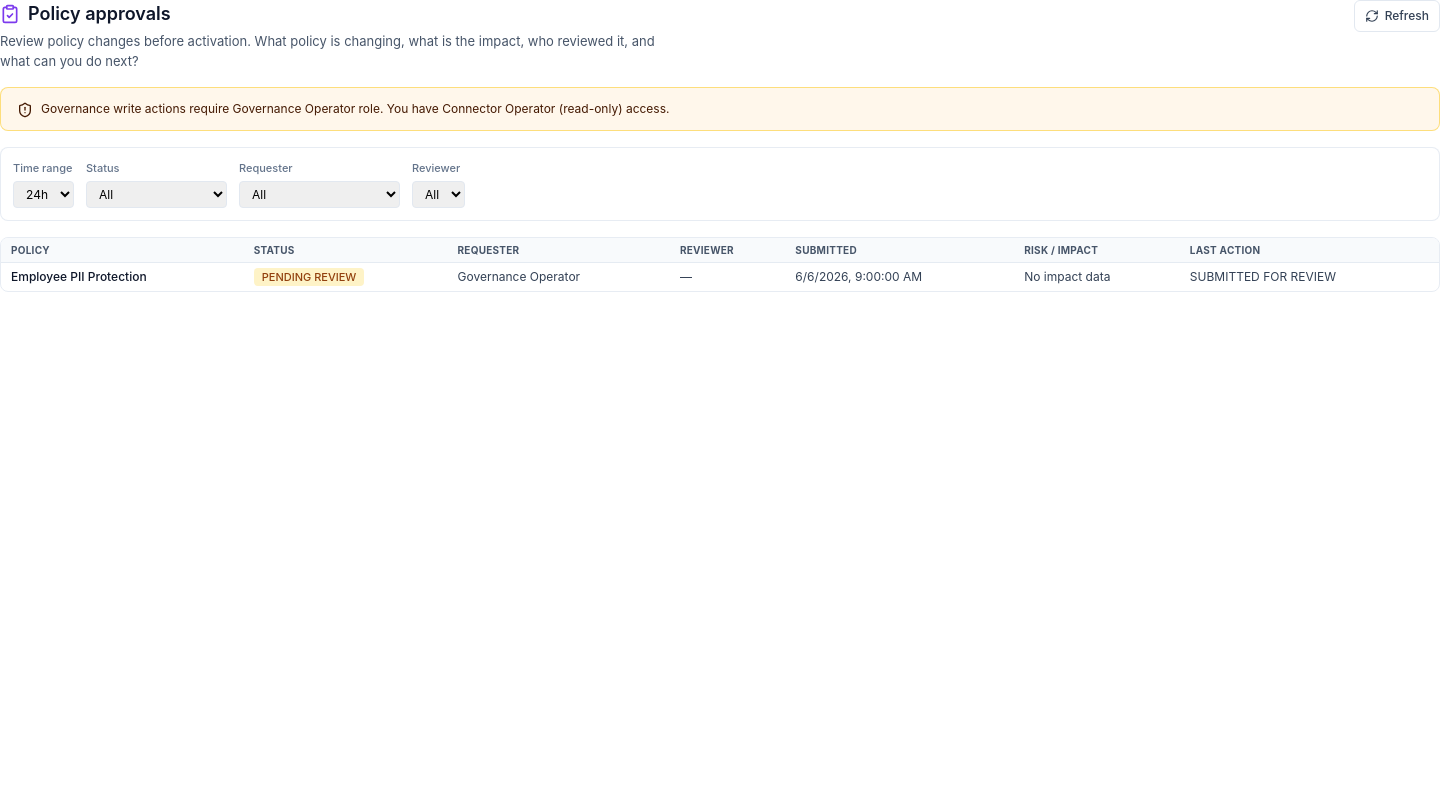
ApprovalWorkflowPage › hides action buttons for connector operator in drawer
Click the row with test id "approval-row-7".
click(79, 277)  # box [1, 262, 1439, 291]
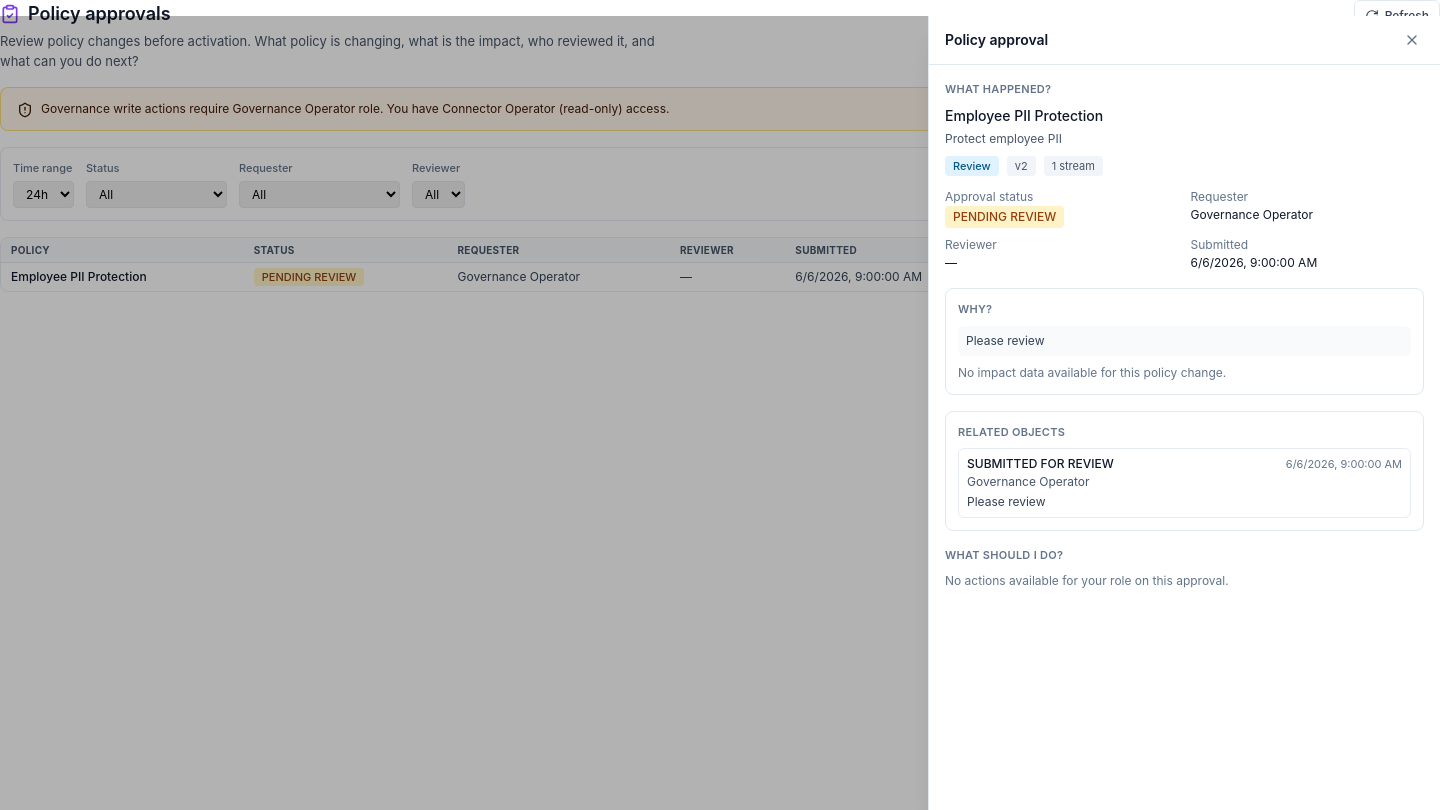
Check: the element with test id "approval-detail-drawer" is shown, box [928, 16, 1439, 809]
